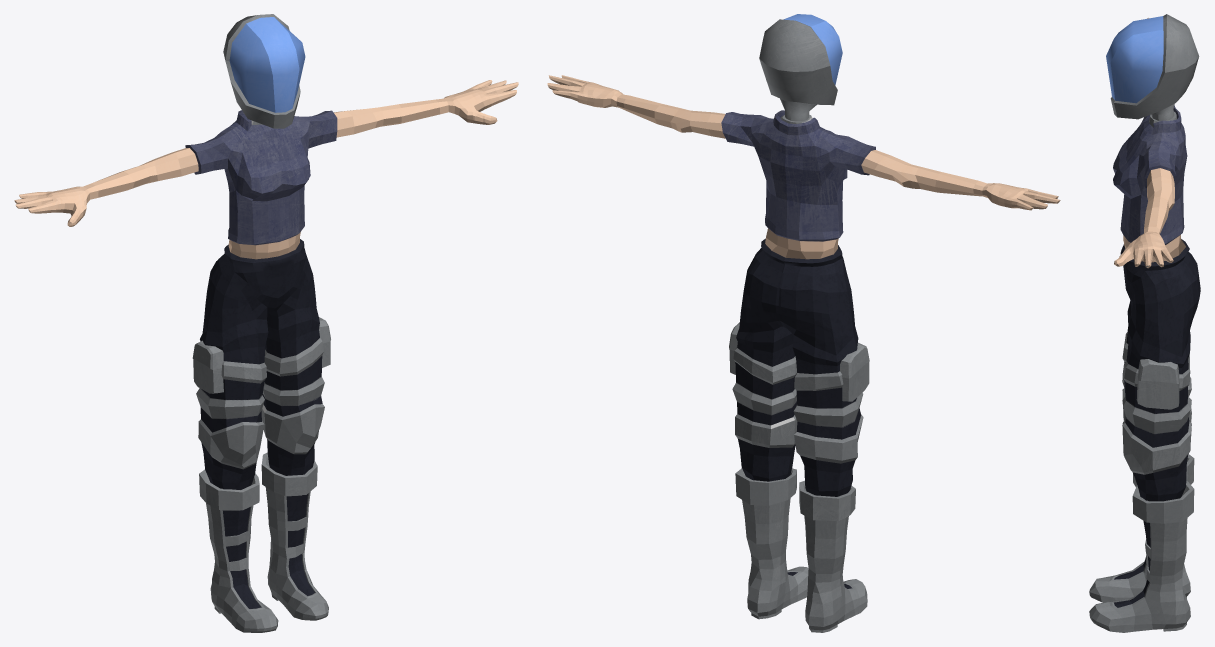
File: Cyberpunk character7.fbx
The picture shows the model from 3 angles, left to right: view 1: azimuth 30°, elevation 25°; view 2: azimuth 150°, elevation 25°; view 3: azimuth 270°, elevation 25°; orthographic projection.
Parts seen in each view (by area): view 1: Cyberpunk_characters7; view 2: Cyberpunk_characters7; view 3: Cyberpunk_characters7.
Part boxes in pixels (x1,y1,x2,y2): Cyberpunk_characters7: (14,14,518,632); Cyberpunk_characters7: (547,14,1060,632); Cyberpunk_characters7: (1089,14,1200,632).
Size of the model in its own units: 156 by 174 by 29.51.
